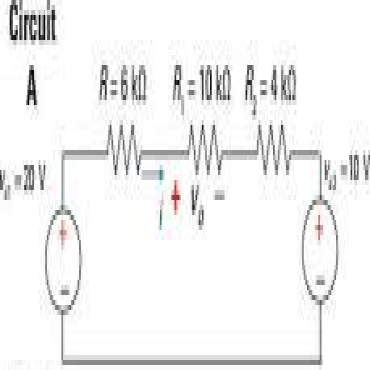Resistor: (173, 64, 231, 174), (98, 63, 150, 179), (244, 62, 295, 175)
Voltage Source: (1, 163, 82, 315), (302, 152, 369, 304)
